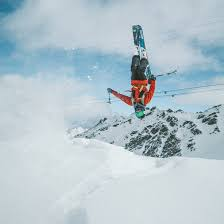skis: (131, 24, 155, 80)
